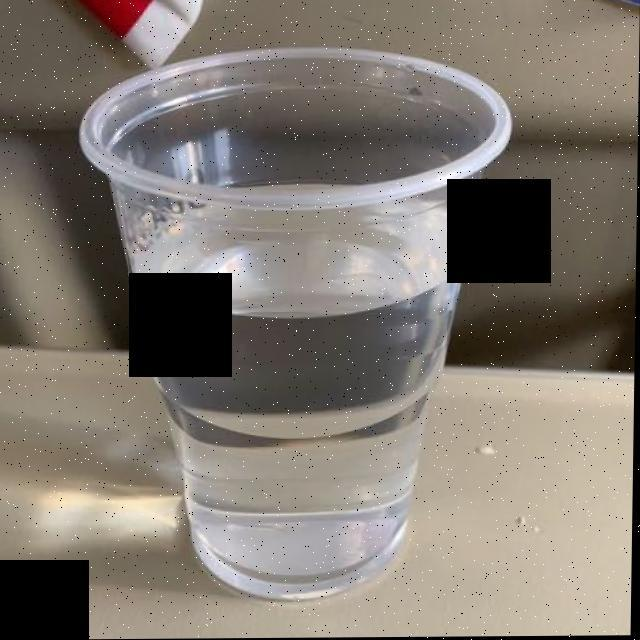water: (137, 171, 460, 582)
